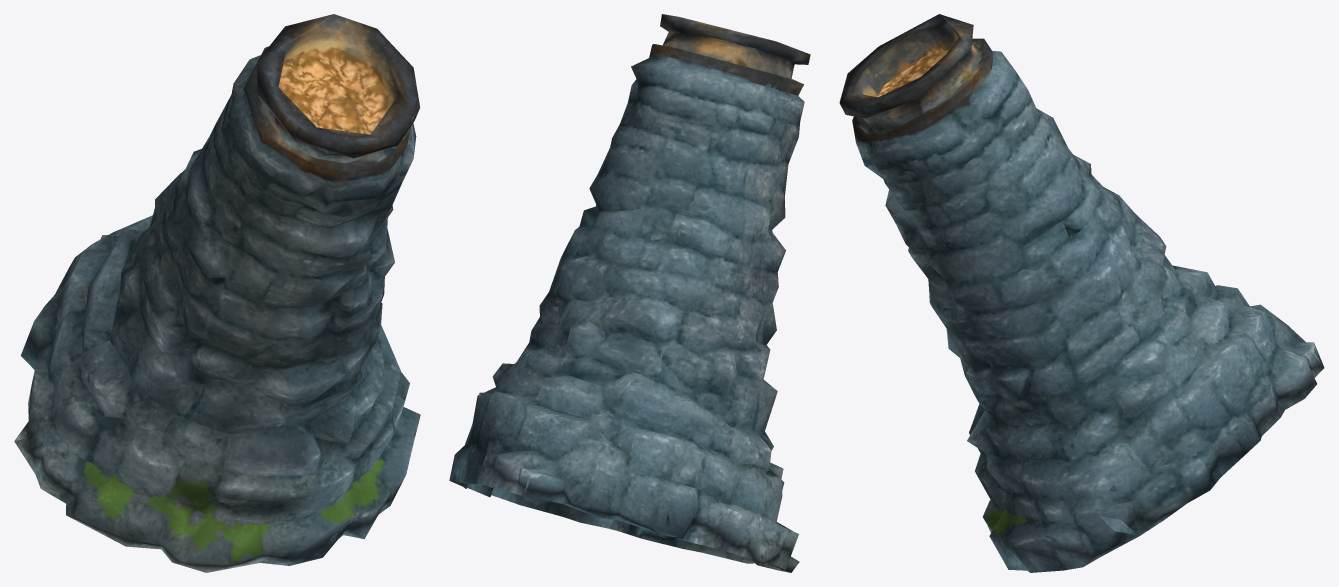
Rendered from chimney.glb.
3 views of the same model, side by side, from view 1: azimuth 30°, elevation 25°; view 2: azimuth 150°, elevation 25°; view 3: azimuth 270°, elevation 25° (orthographic). The views are drawn at different scales.
Visible parts, largest first — view 1: low; view 2: low; view 3: low.
Boxes of the visible parts, box(x1,y1,x2,y2) form: low: box(14, 14, 420, 572); low: box(449, 14, 810, 572); low: box(839, 14, 1324, 572).
Bounding box in the file's own units: 3.91 × 6 × 5.17.
1 material, 1 textured.
